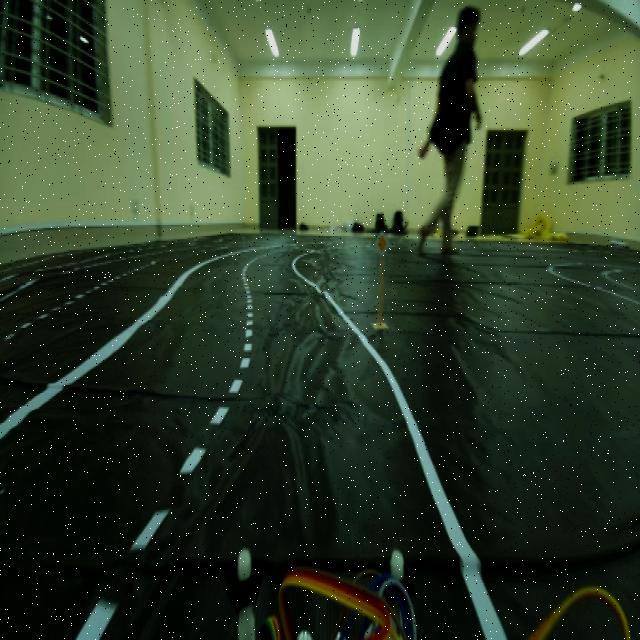priority: (370, 227, 396, 264)
